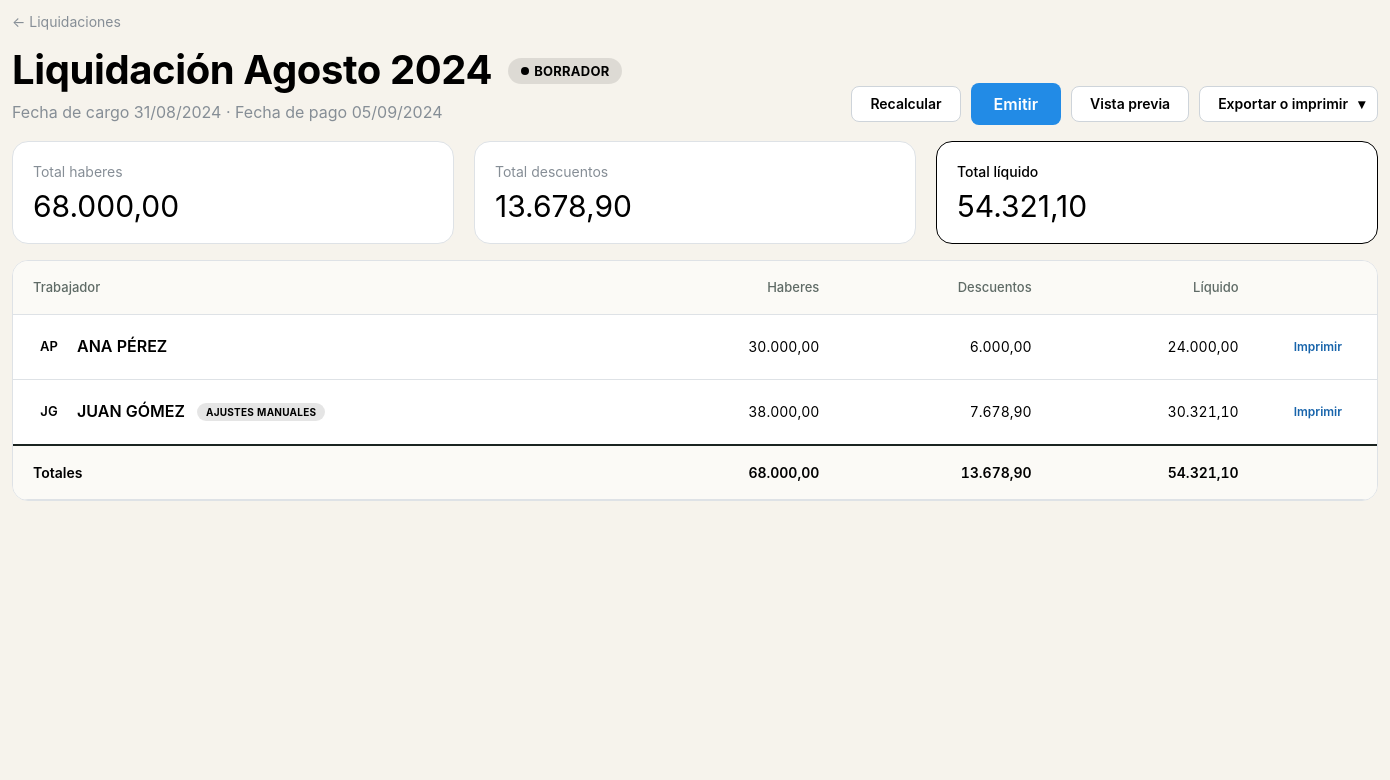
LiquidacionDetallePage › recalculates a draft and shows the fresh numbers
Click the button "Recalcular": click(906, 104) [851,86,961,122]
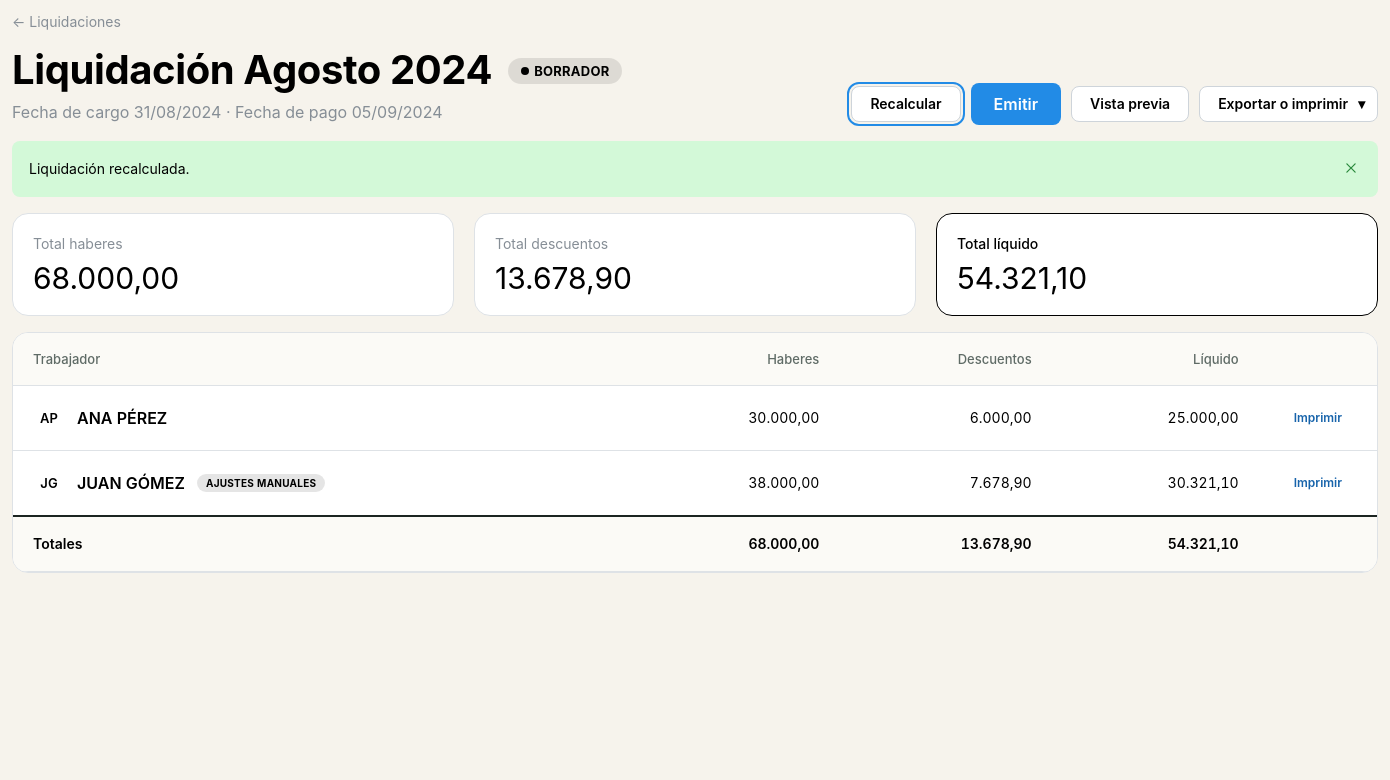
Check: the message reads "Liquidación recalculada.", box [29,160,190,177]
Check: the row with test id "recibo-fila" shows "25.000,00", box [1168,409,1239,426]
